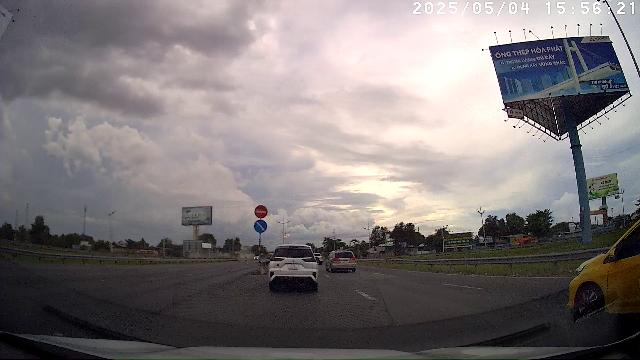102-cam-di-nguoc-chieu: (254, 204, 268, 218)
302a-huong-phai-di-vong-chuong-ngai-vat-1: (255, 219, 268, 233)
